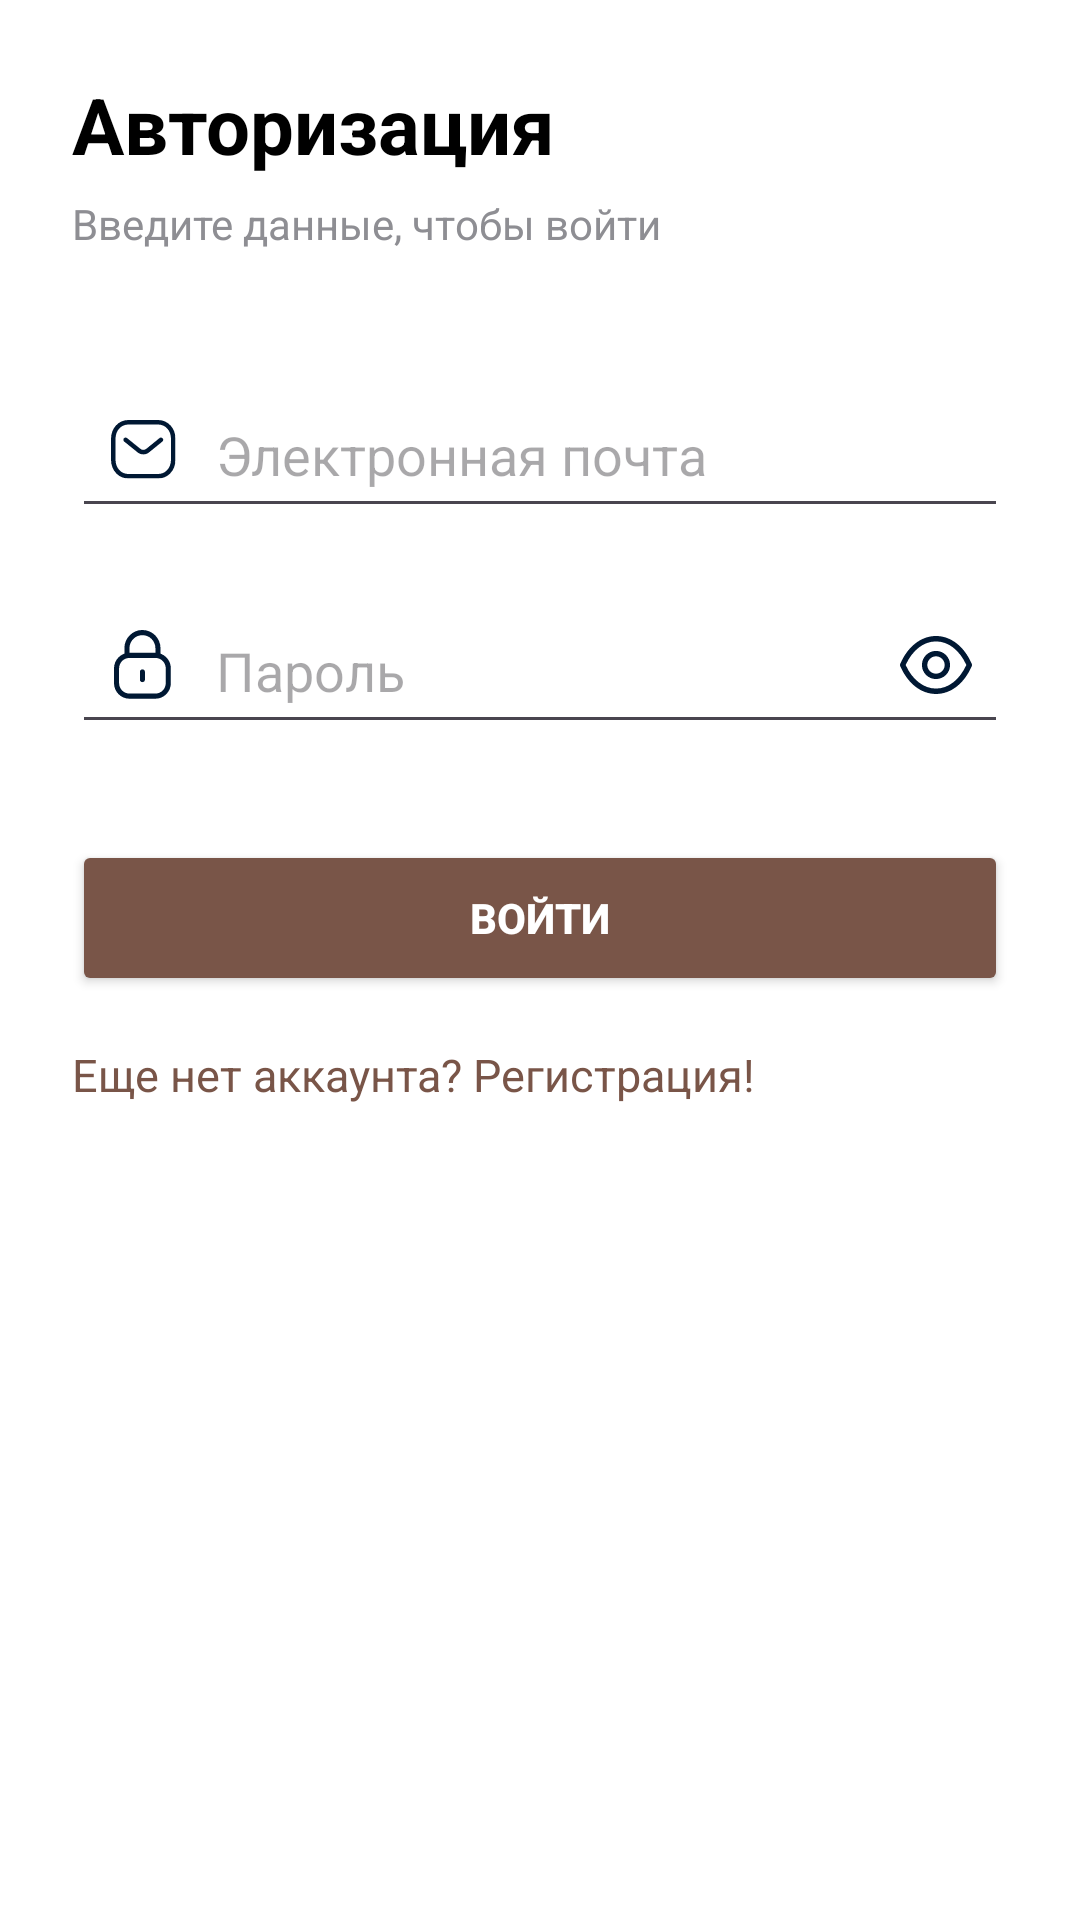

Screen size 1080×1920. Icon name, then its box in pixels as (x1, y1, x2, y2):
email: (111, 420, 176, 479)
eye: (900, 636, 972, 694)
lock: (114, 630, 171, 699)
